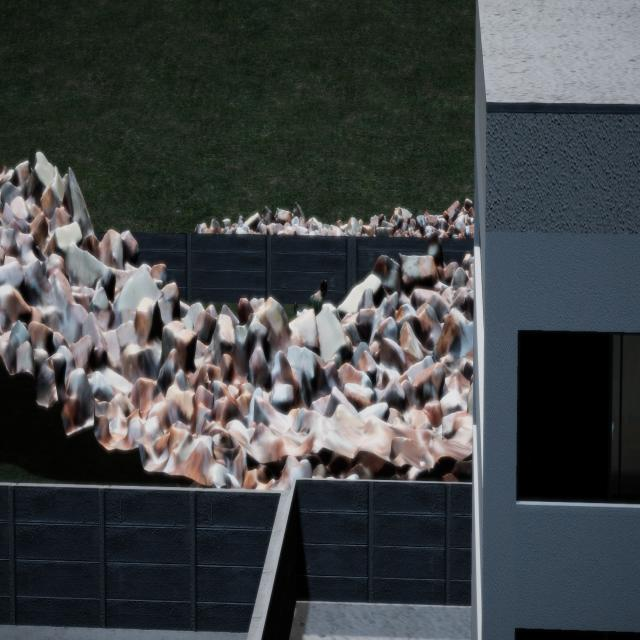Human: (302, 270, 330, 314)
